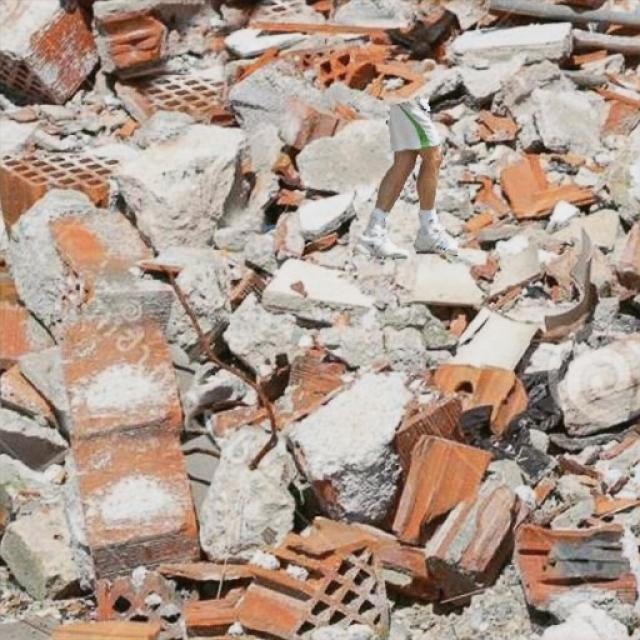Person in Rubble: (352, 99, 457, 259)
